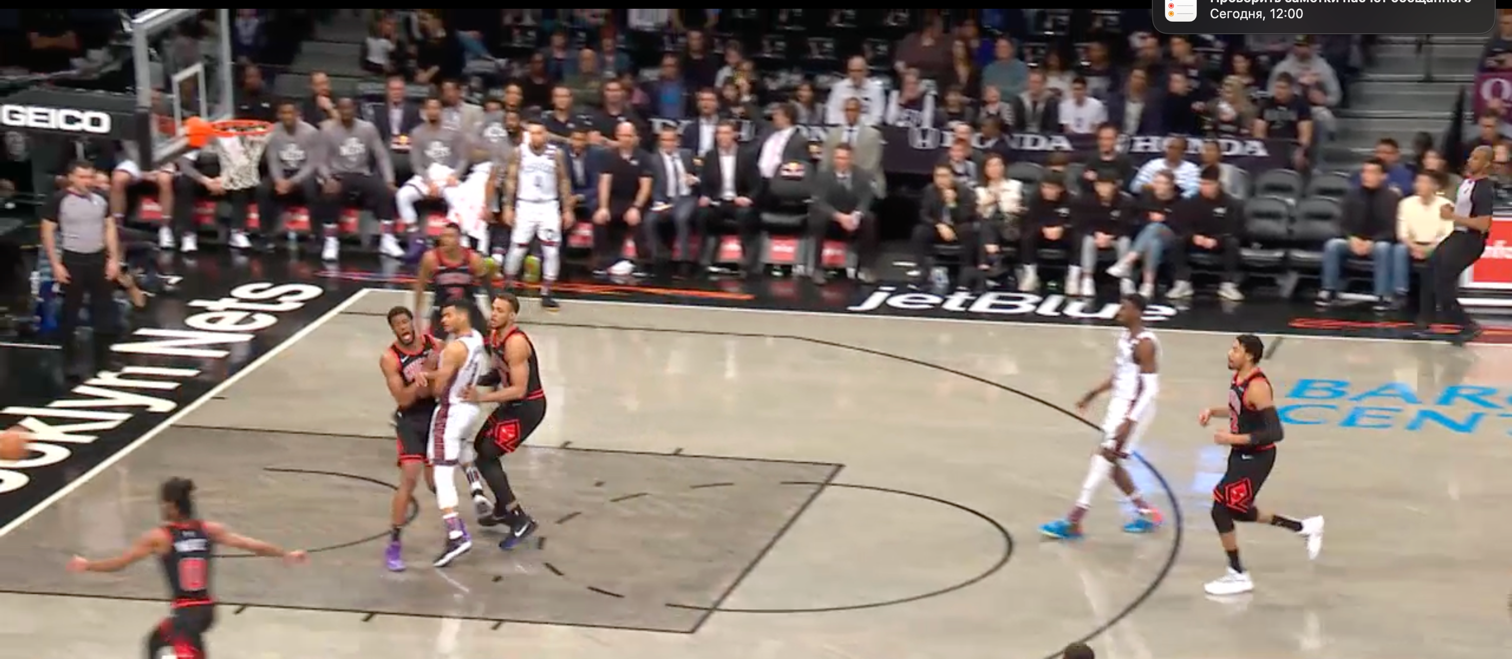Foul: (374, 296, 477, 561)
